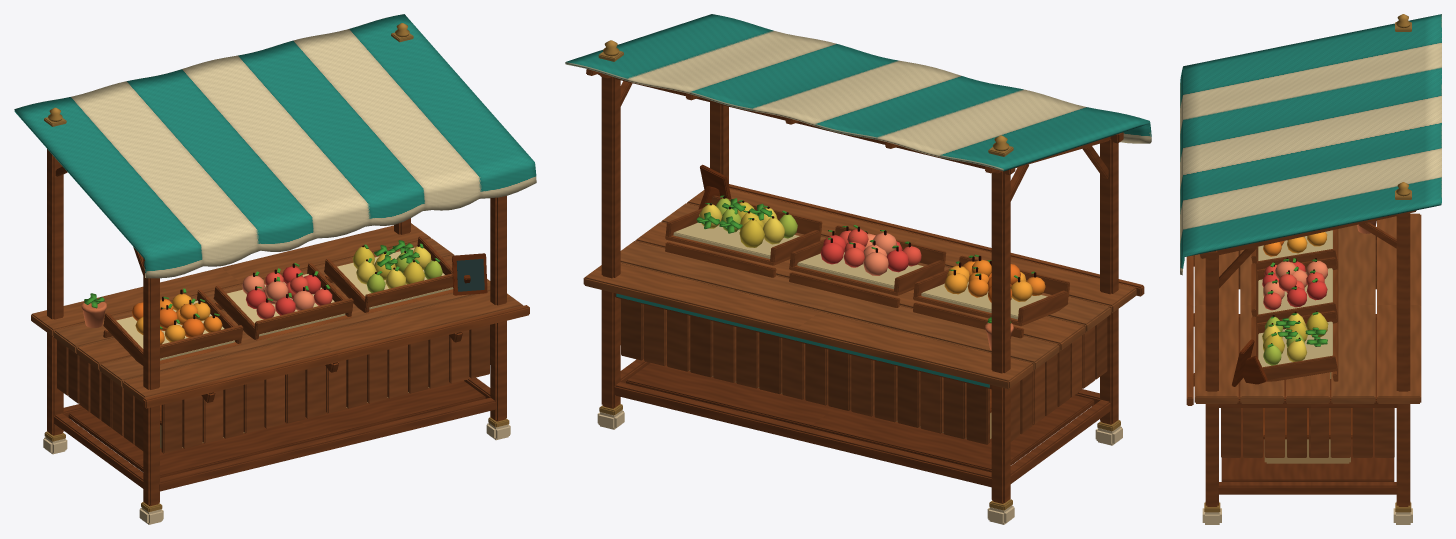
The model's file is market-stall.glb.
3 renders of one model, left to right at view 1: azimuth 30°, elevation 25°; view 2: azimuth 150°, elevation 25°; view 3: azimuth 270°, elevation 25°, orthographic. The views are drawn at different scales.
Visible parts, largest first — view 1: market-stall; view 2: market-stall; view 3: market-stall.
Part boxes in pixels (box(x1,y1,x2,y2)): market-stall: box(14, 14, 536, 524); market-stall: box(565, 14, 1151, 524); market-stall: box(1180, 14, 1441, 524).
Bounding box in the file's own units: 2.9 × 2.43 × 1.7.
6 materials, 2 textured.
